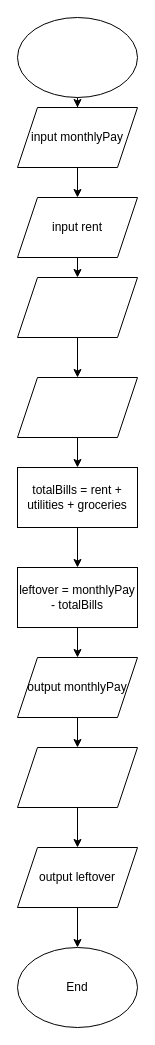
Image size: 155x1045. Some labels were removed from this diagram. The centre of each missing label's shape, as x and y in pixels:
"input groceries" goes at pixel 77 407.
"input utilities" goes at pixel 77 307.
"output totalBills" goes at pixel 77 777.
"Start" goes at pixel 77 57.
